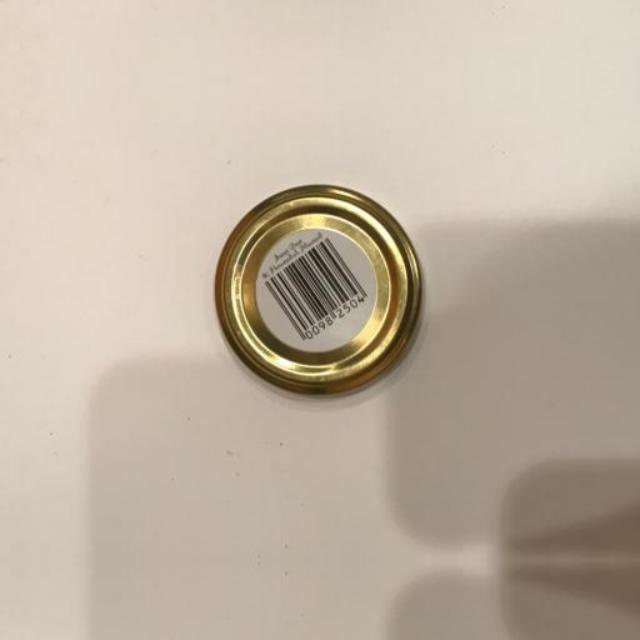Metal: (119, 158, 448, 430), (118, 0, 447, 1)
